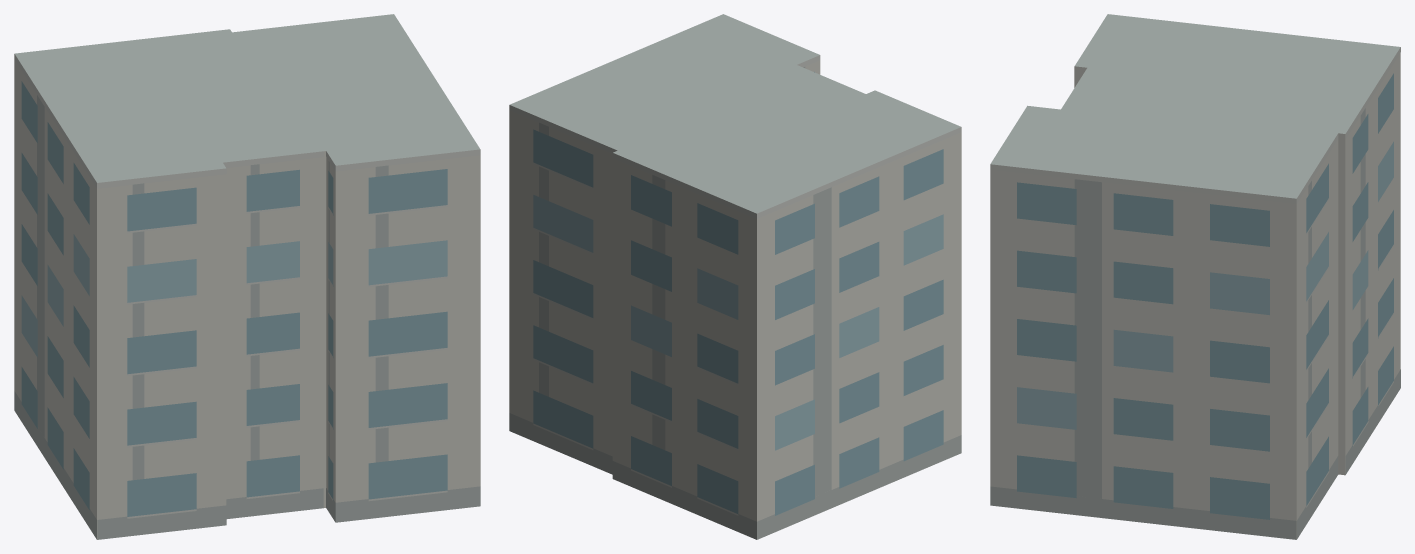
The model's file is survey-upis-32875614.glb.
3 renders of one model, left to right at view 1: azimuth 30°, elevation 25°; view 2: azimuth 150°, elevation 25°; view 3: azimuth 270°, elevation 25°, orthographic. The views are drawn at different scales.
Parts seen in each view (by area): view 1: survey-upis-32875614.tmp; view 2: survey-upis-32875614.tmp; view 3: survey-upis-32875614.tmp.
Boxes of the visible parts, x1,y1,x2,y2 form: survey-upis-32875614.tmp: (14, 14, 480, 539); survey-upis-32875614.tmp: (509, 14, 961, 539); survey-upis-32875614.tmp: (990, 14, 1400, 539).
Size of the model in its own units: 17.71 by 15.25 by 16.64.
